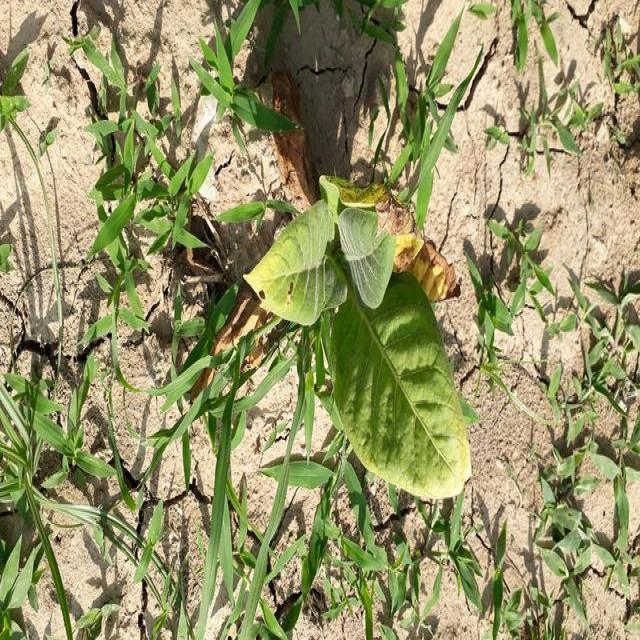crop: (257, 122, 488, 492)
